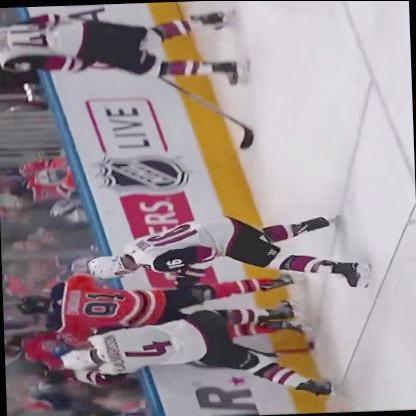voilence: (13, 271, 299, 386)
